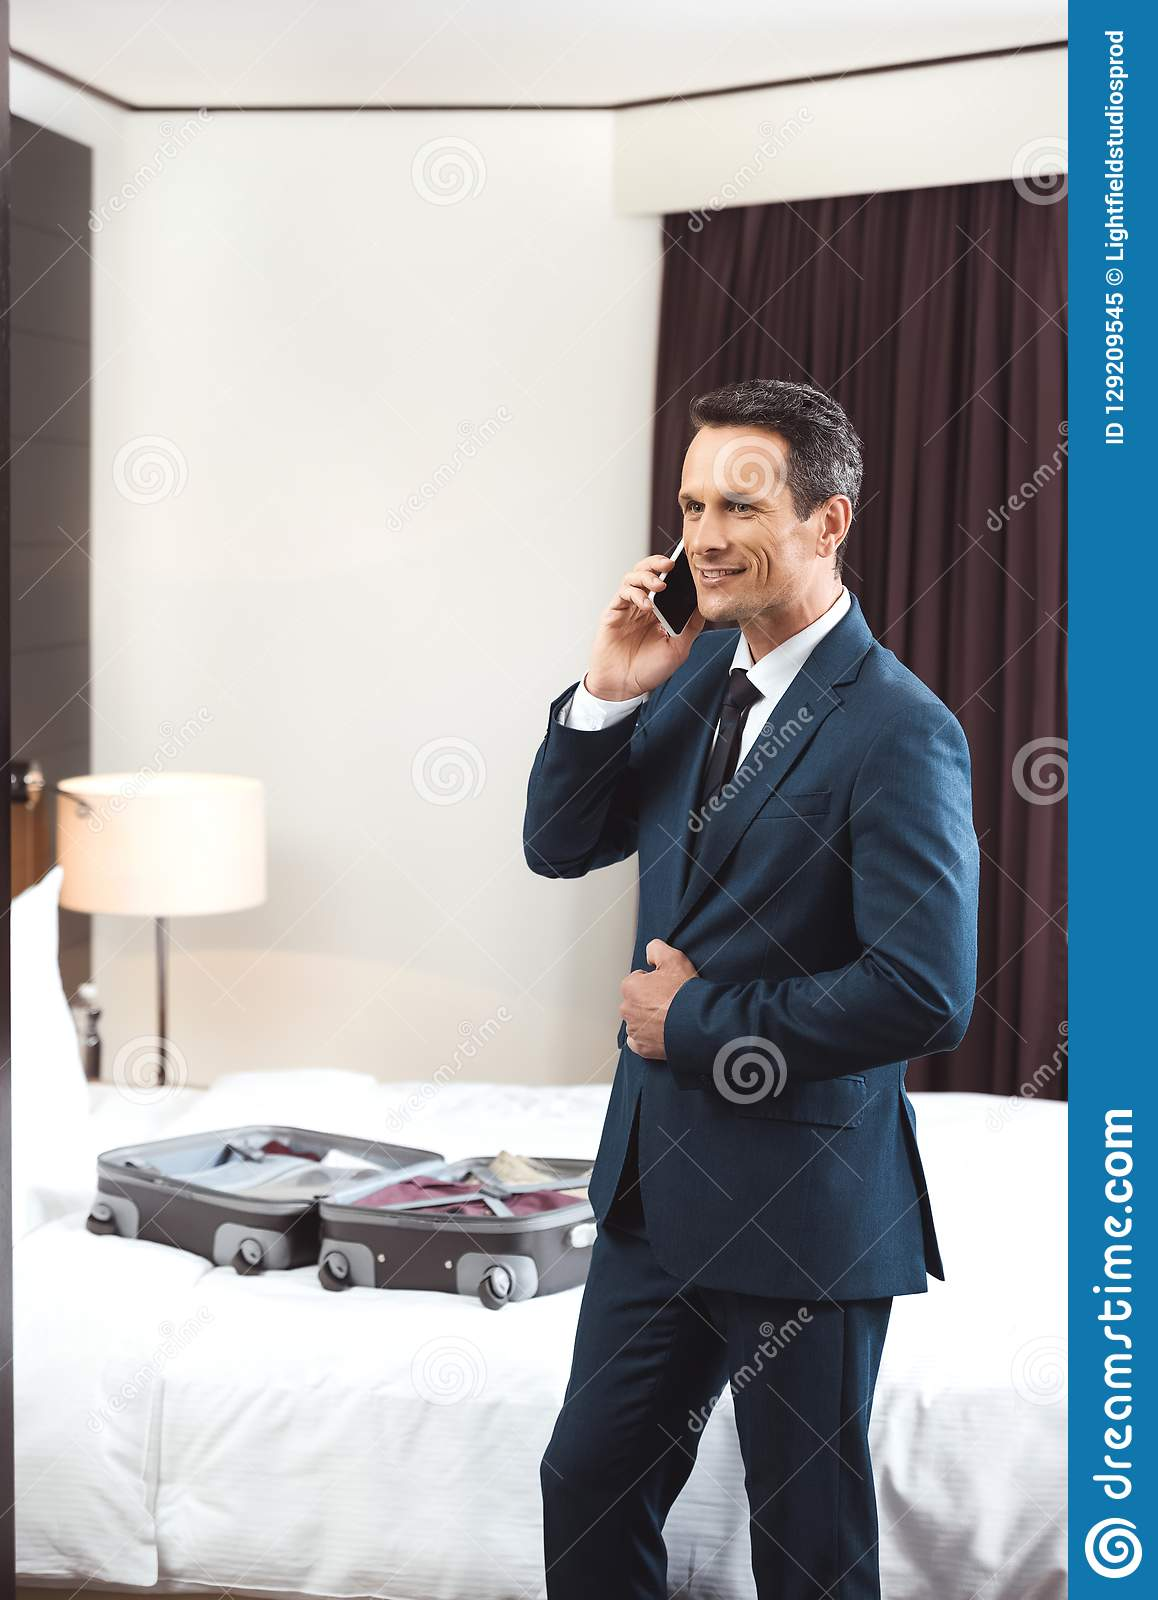phone: (644, 529, 700, 650)
talk: (591, 477, 779, 697)
